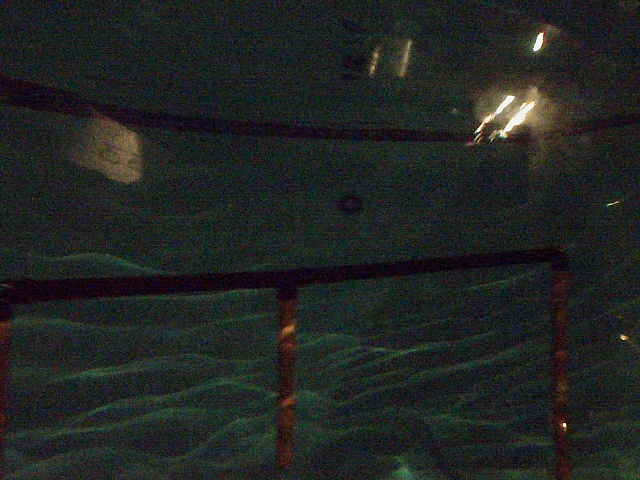Gate: (269, 291, 301, 471), (552, 264, 572, 477)
